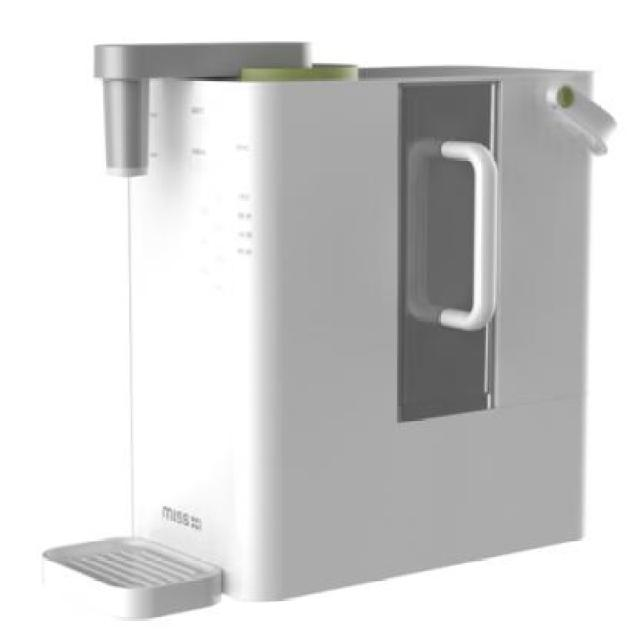cooler: (42, 37, 618, 626)
